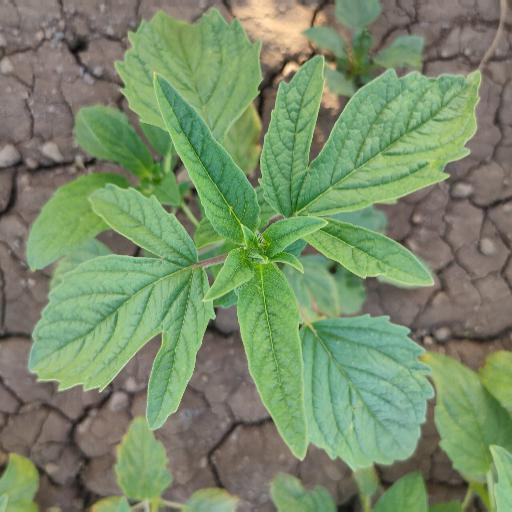crop: (17, 10, 486, 471)
